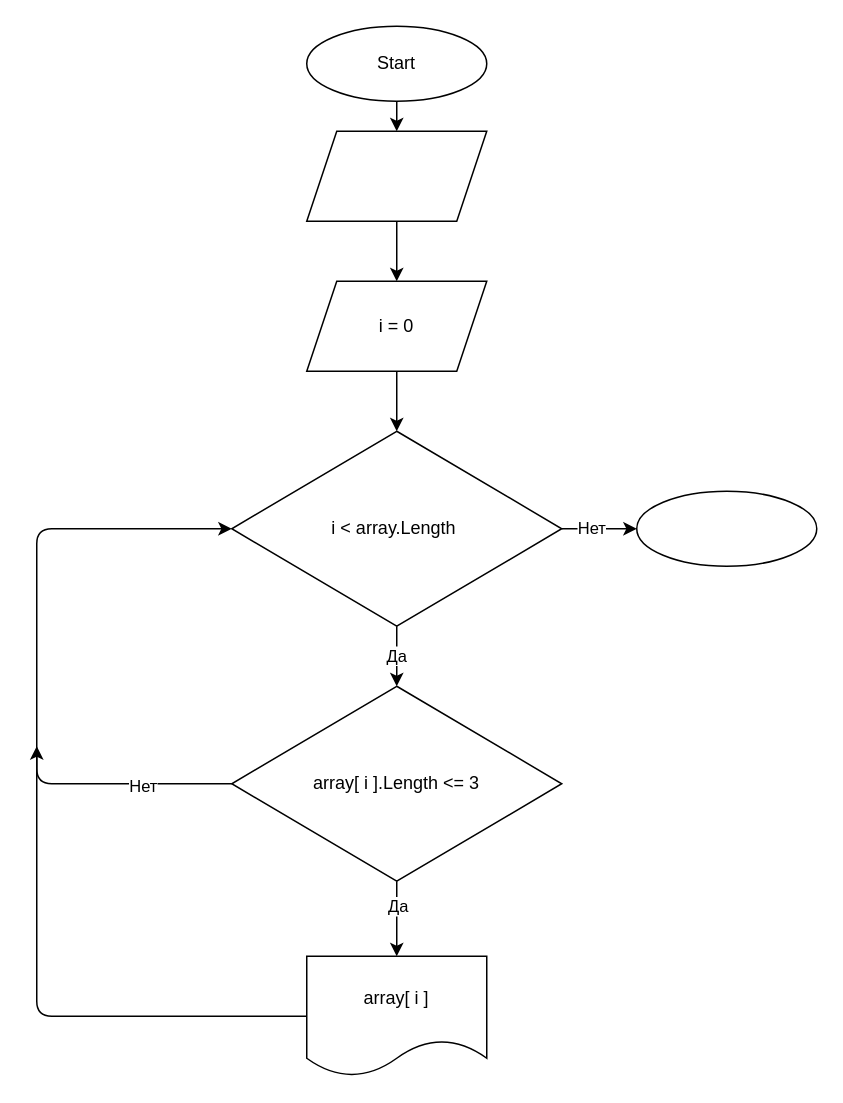
Some shapes in this 843 by 1103 pixel diagram are drawn without their labels. Each missing label, with the box of its shape:
array[ ]: (305, 130, 487, 221)
End: (635, 490, 817, 566)
